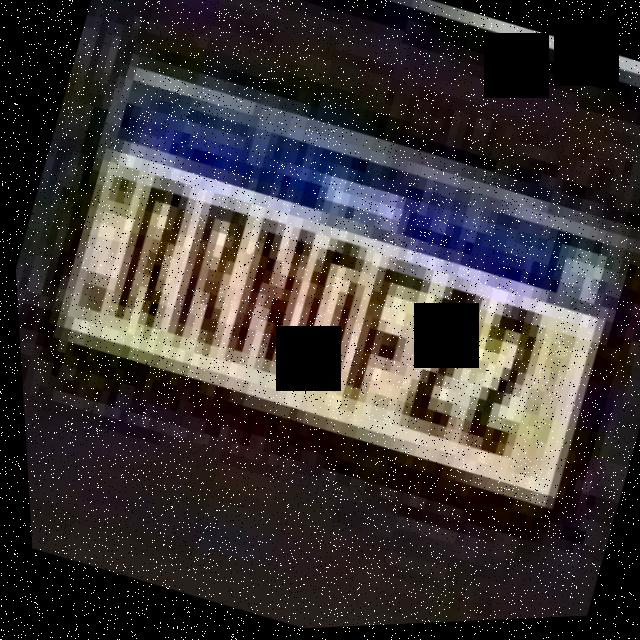0: (265, 229, 381, 400)
F: (318, 241, 446, 430)
N: (208, 209, 324, 383)
R: (148, 182, 268, 364), (92, 163, 210, 340)
